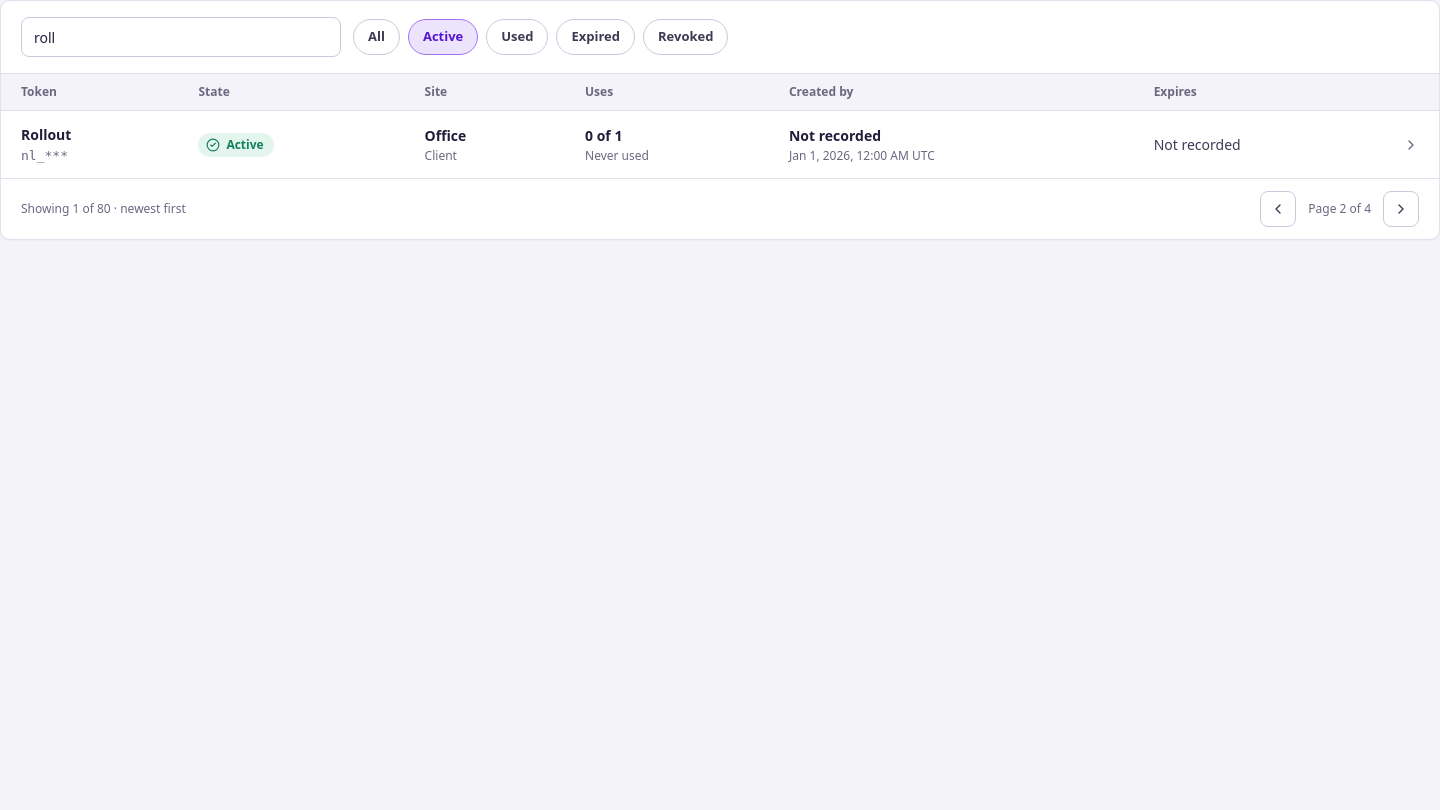
Test: token pagination retains filters and previews only the masked credential
The image size is (1440, 810).
Click the row named "Preview Rollout".
click(720, 144)  # box [1,110,1439,178]
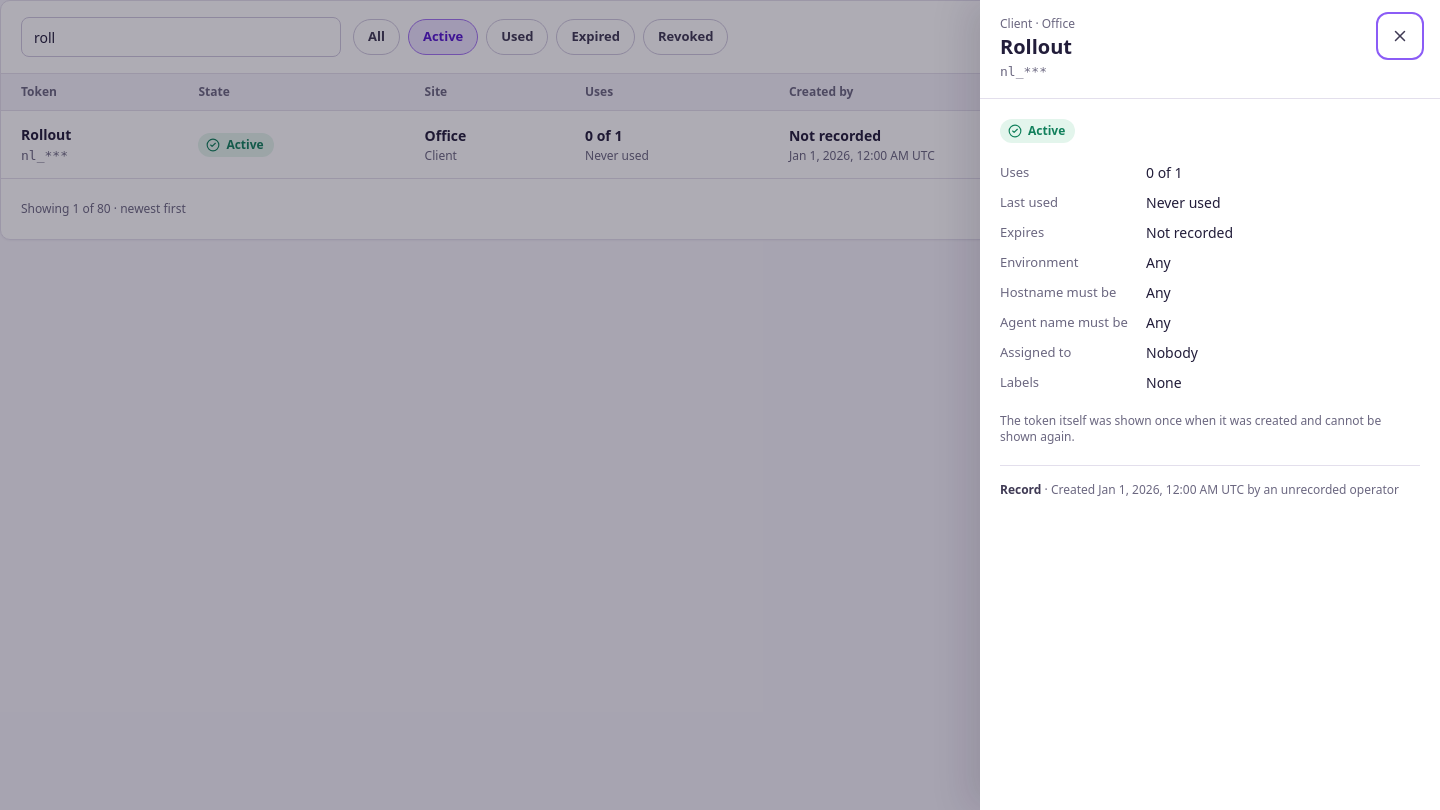
Check: the text "nl_***" is shown, box [1000,64,1047,79]
Press Escape
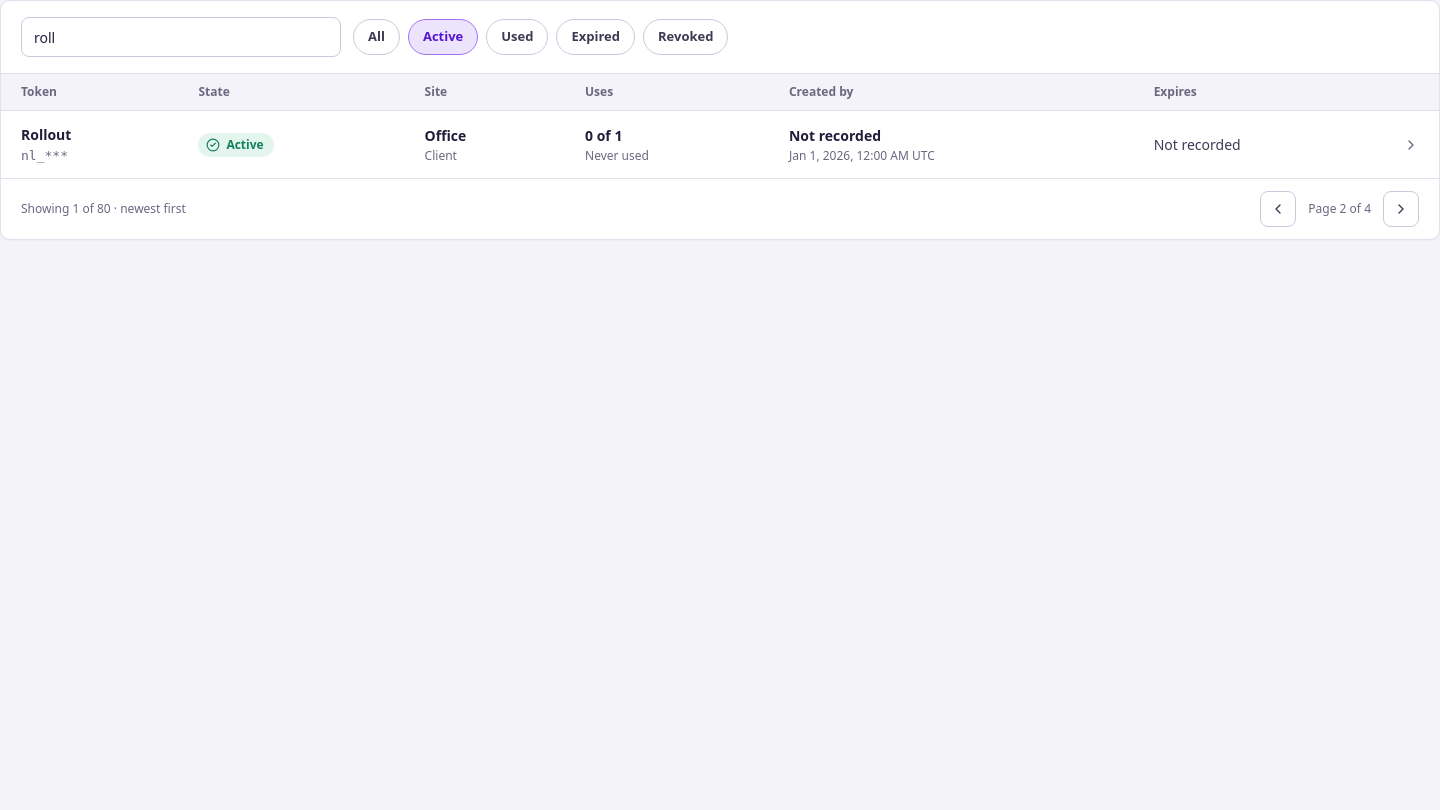
Check: the dialog is gone
